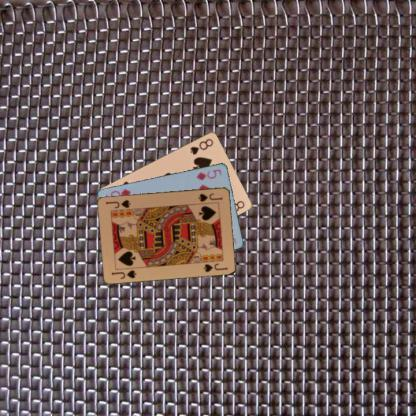5d: (194, 166, 223, 182)
8s: (188, 135, 214, 156)
Js: (109, 268, 138, 280), (196, 190, 224, 202)
